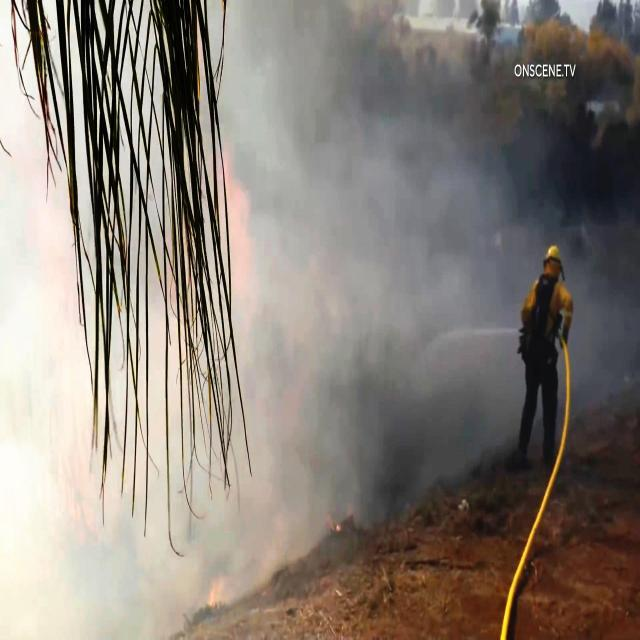Smoke: (2, 0, 634, 637)
